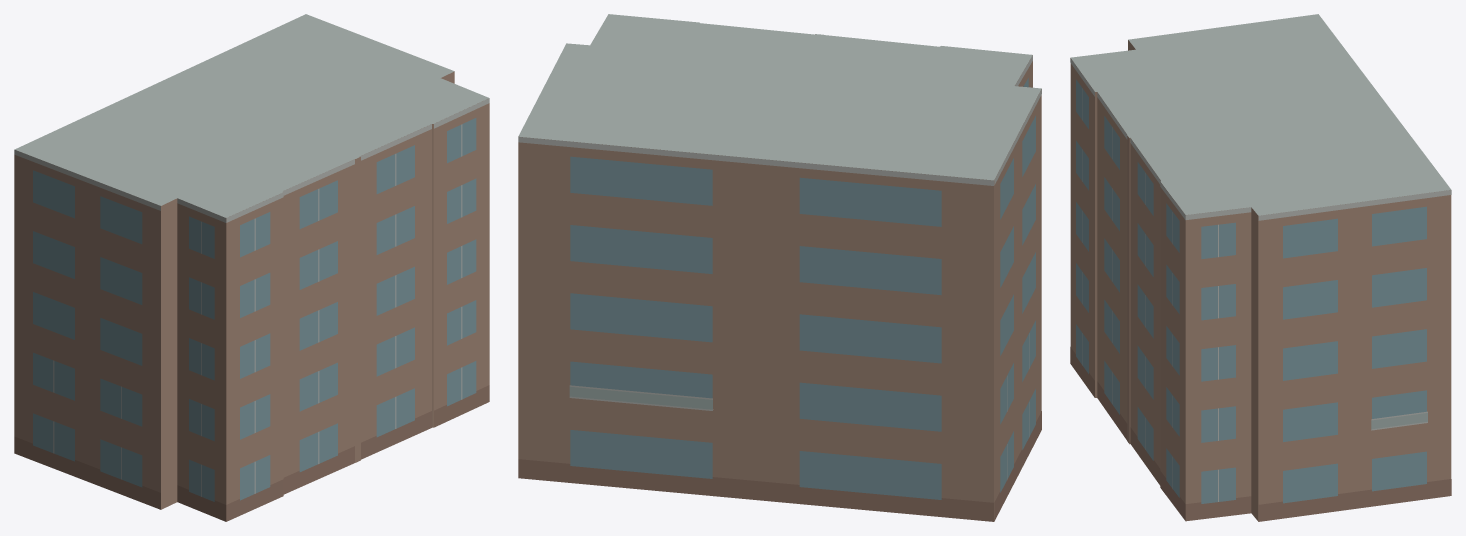
File: survey-upis-32953180.glb
3 renders of one model, left to right at view 1: azimuth 30°, elevation 25°; view 2: azimuth 150°, elevation 25°; view 3: azimuth 270°, elevation 25°, orthographic. The views are drawn at different scales.
Parts seen in each view (by area): view 1: survey-upis-32953180.tmp; view 2: survey-upis-32953180.tmp; view 3: survey-upis-32953180.tmp.
Boxes of the visible parts, <box> form: survey-upis-32953180.tmp: <box>14,14,489,521</box>; survey-upis-32953180.tmp: <box>518,14,1041,521</box>; survey-upis-32953180.tmp: <box>1070,14,1451,521</box>.
Size of the model in its own units: 20.79 by 14.7 by 16.59.
